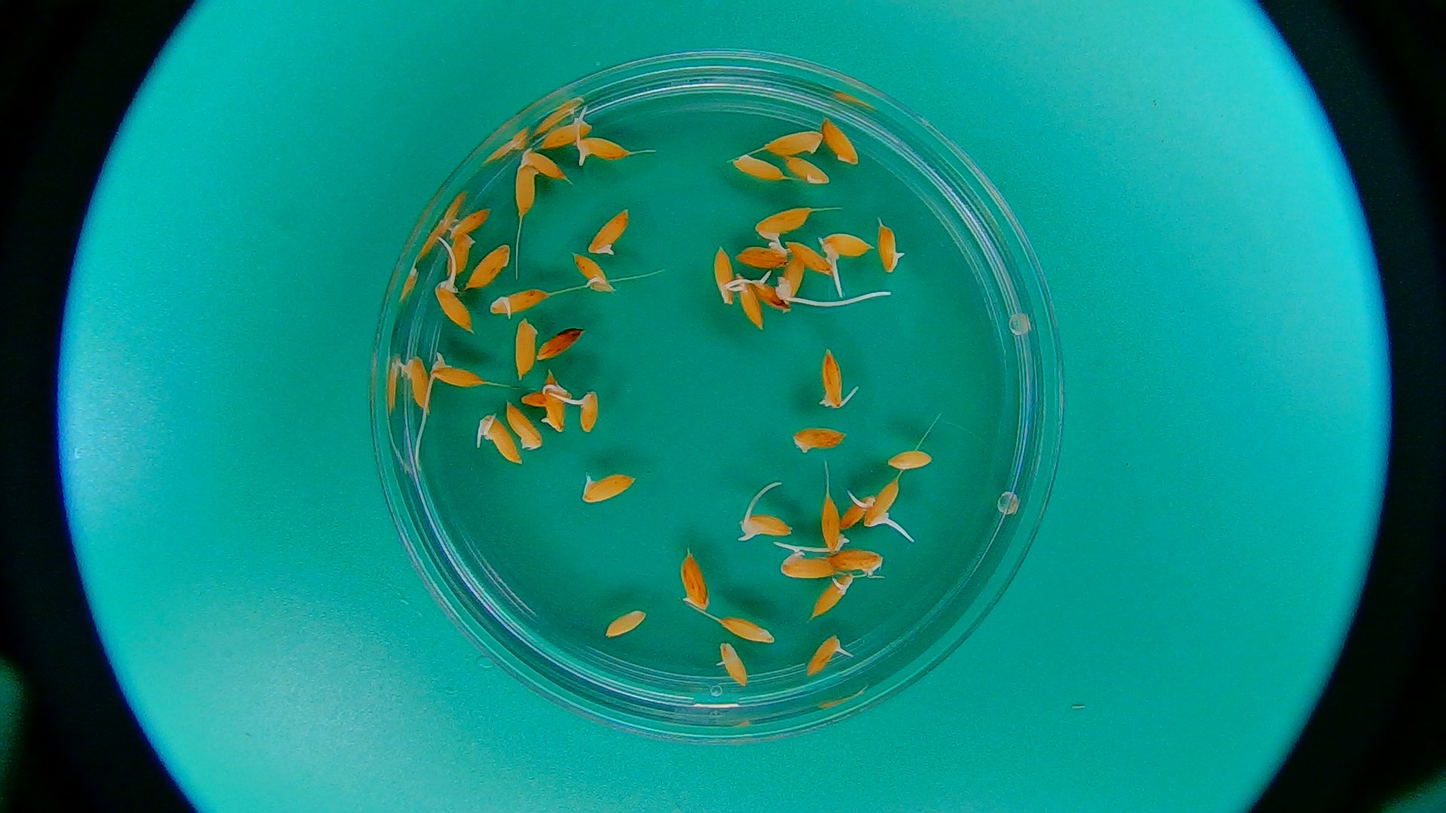no: (821, 117, 864, 168), (587, 208, 628, 256), (782, 153, 831, 189), (730, 152, 786, 183), (507, 402, 543, 449), (712, 242, 737, 309), (760, 129, 822, 156), (777, 548, 831, 579), (831, 548, 888, 577), (513, 316, 537, 383), (790, 426, 847, 454), (680, 558, 710, 611), (520, 147, 566, 181), (471, 246, 510, 286), (540, 324, 584, 359), (786, 245, 837, 275), (716, 616, 777, 641), (542, 370, 564, 439), (602, 607, 650, 638), (737, 240, 788, 269), (448, 208, 493, 238), (447, 231, 476, 276), (516, 166, 536, 218), (886, 450, 935, 470)
yes: (812, 570, 859, 620), (433, 279, 471, 335), (819, 491, 850, 556), (755, 207, 813, 241), (482, 413, 518, 466), (429, 356, 487, 388), (805, 632, 846, 677), (572, 249, 614, 292), (397, 350, 428, 408), (865, 480, 901, 529), (715, 639, 749, 690), (819, 230, 872, 262), (578, 472, 636, 501), (575, 135, 630, 164), (750, 273, 787, 315), (737, 513, 792, 541), (736, 272, 764, 327), (821, 353, 848, 410), (520, 386, 584, 410), (487, 291, 548, 316), (776, 257, 806, 306), (876, 224, 905, 273), (540, 120, 584, 147), (839, 490, 870, 528), (576, 391, 602, 432)
